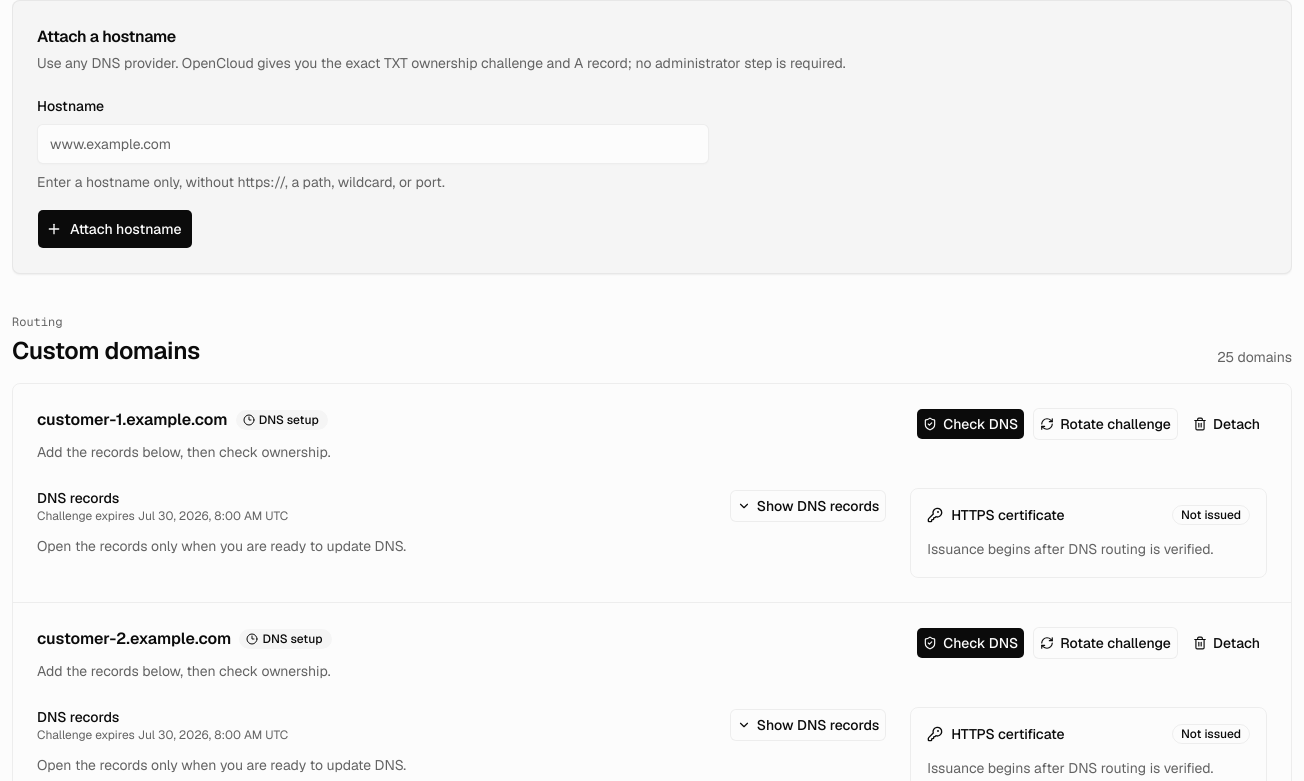
Test case: DomainManager › does not fan out DNS instruction requests for a full page
What coordinates should you click on to do the following:
click the 1st button "Show DNS records"
I would click on:
 (808, 506)
Its box is [730, 490, 886, 522].
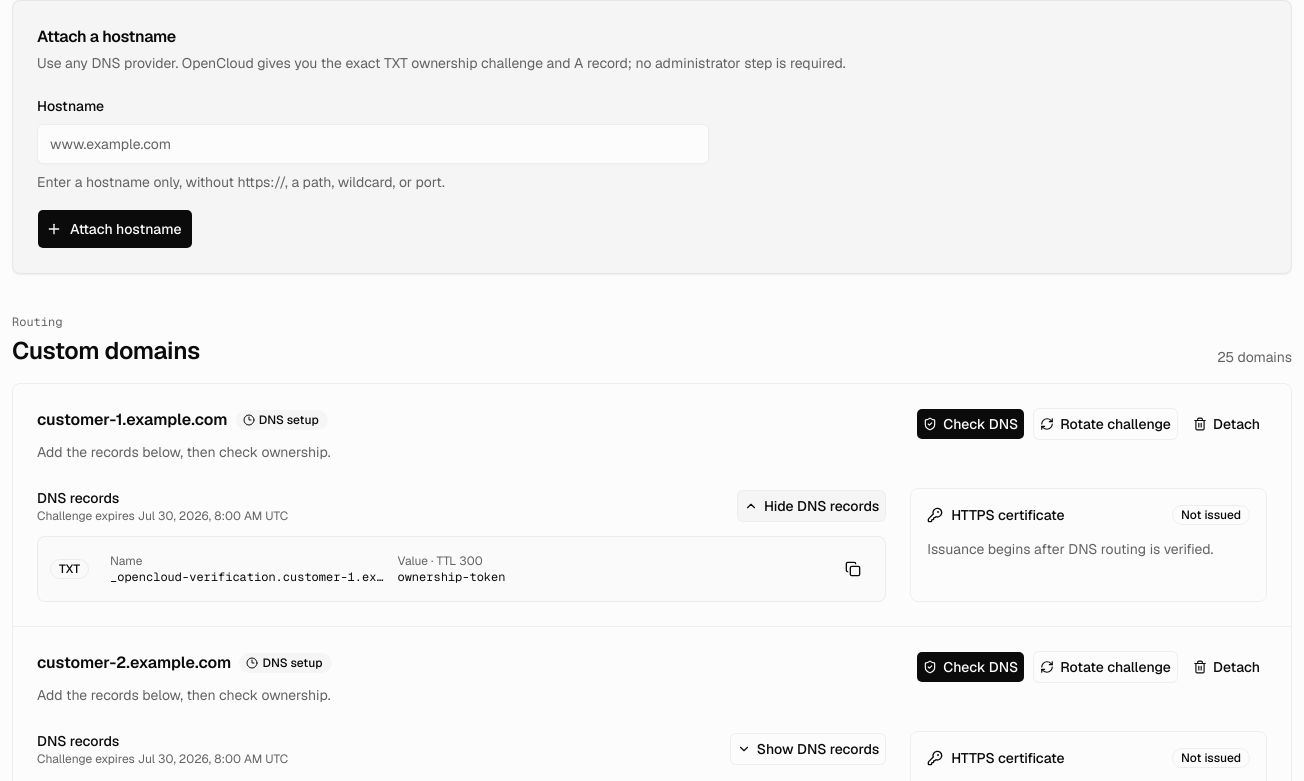
expect the text "ownership-token" is shown: met, box [398, 569, 506, 585]
